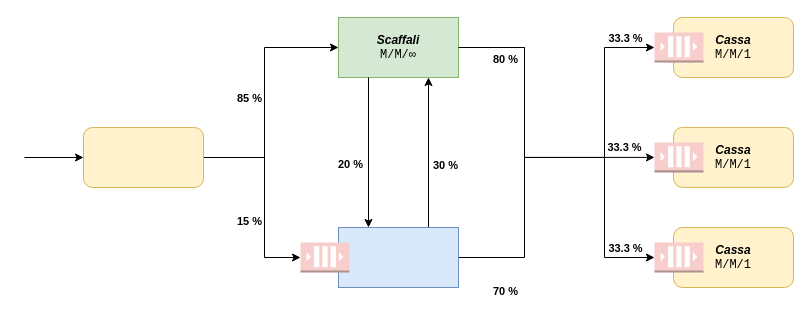
Some shapes in this 811 by 315 pixel diagram are drawn without their labels. Each missing label, with the box of its shape:
Gastronomia M/M/1: (338, 226, 458, 288)
Ingresso: (82, 126, 204, 188)
